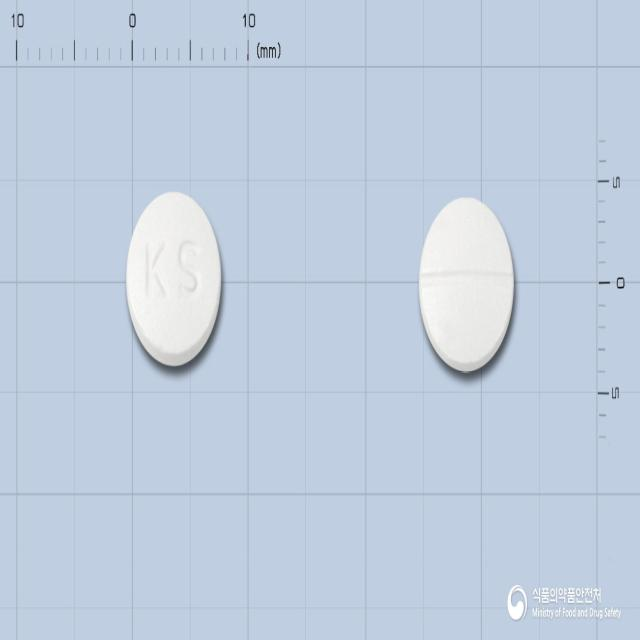Durova - 20mg: (127, 192, 223, 369)
